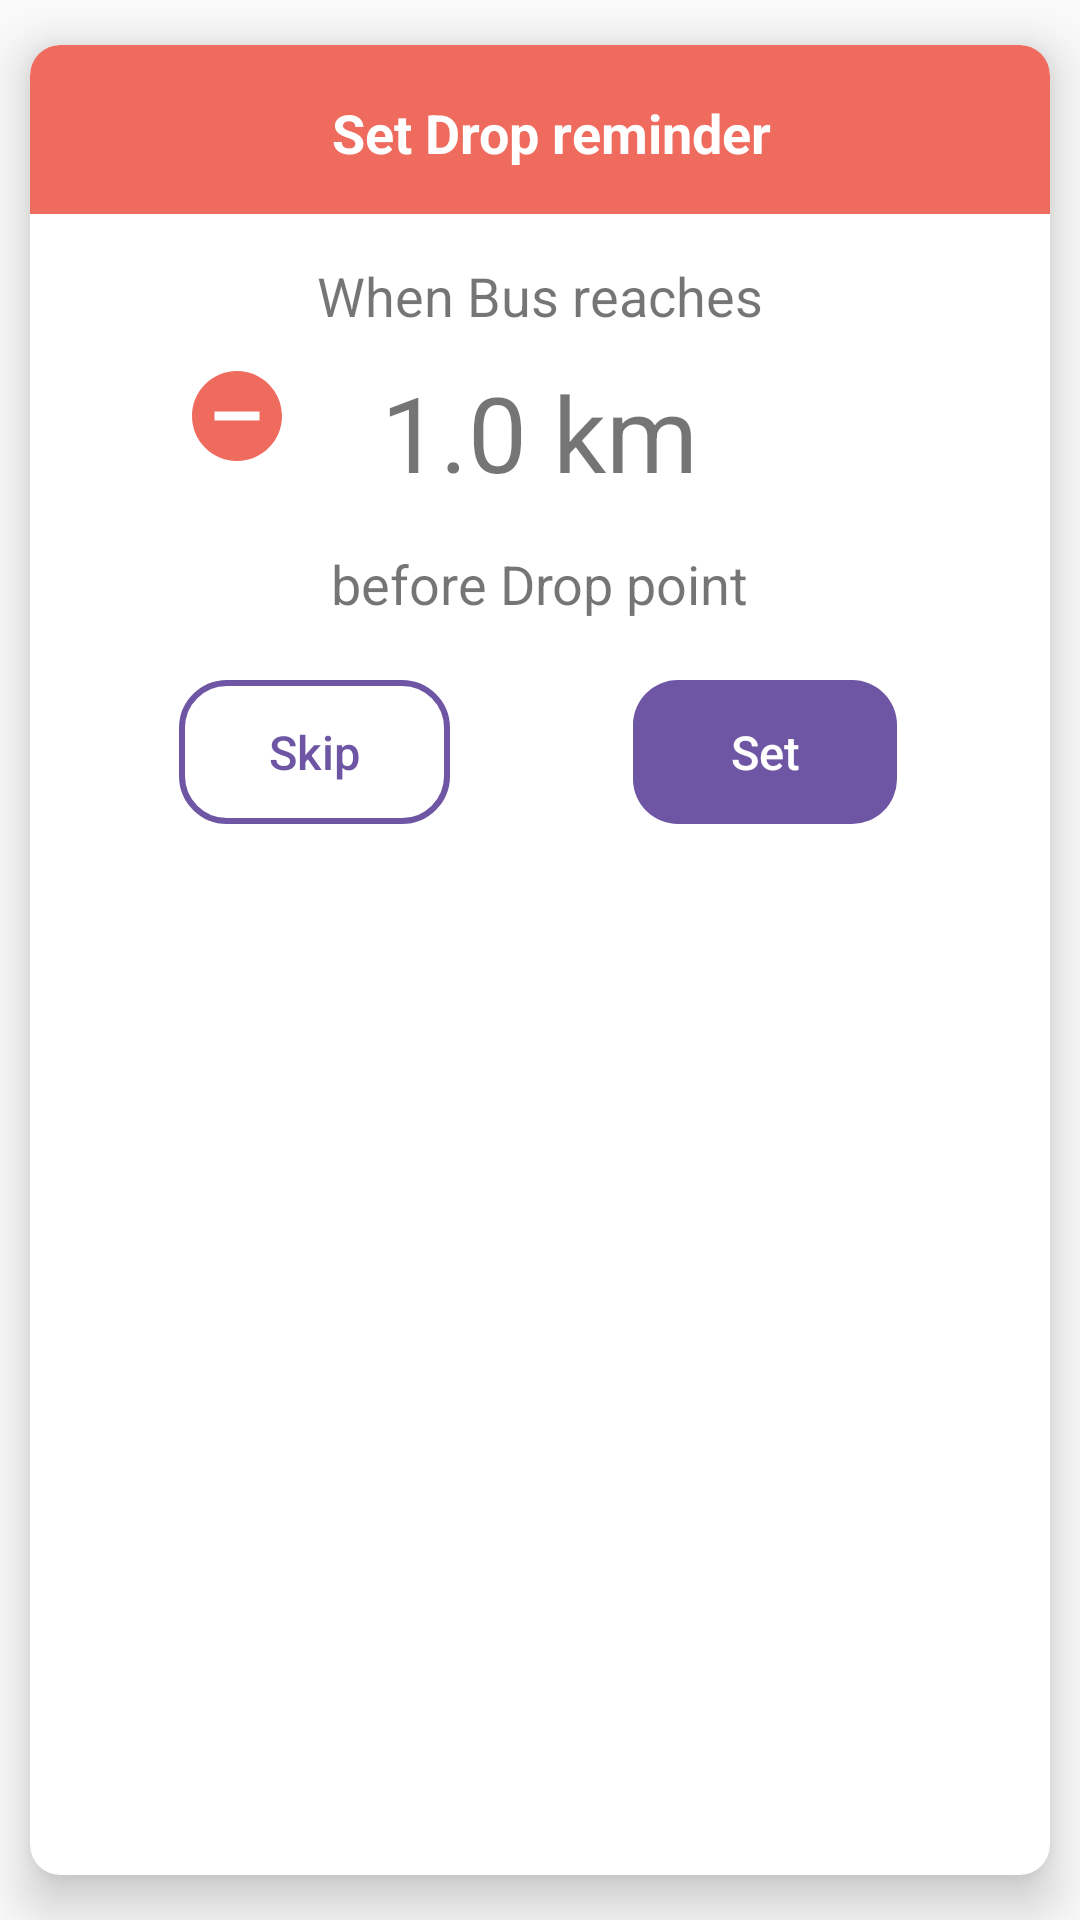

Icons on this 1080px x 1920px Android screen, each with the point to tap as (x=x, y=y):
do not disturb on: (x=237, y=416)
